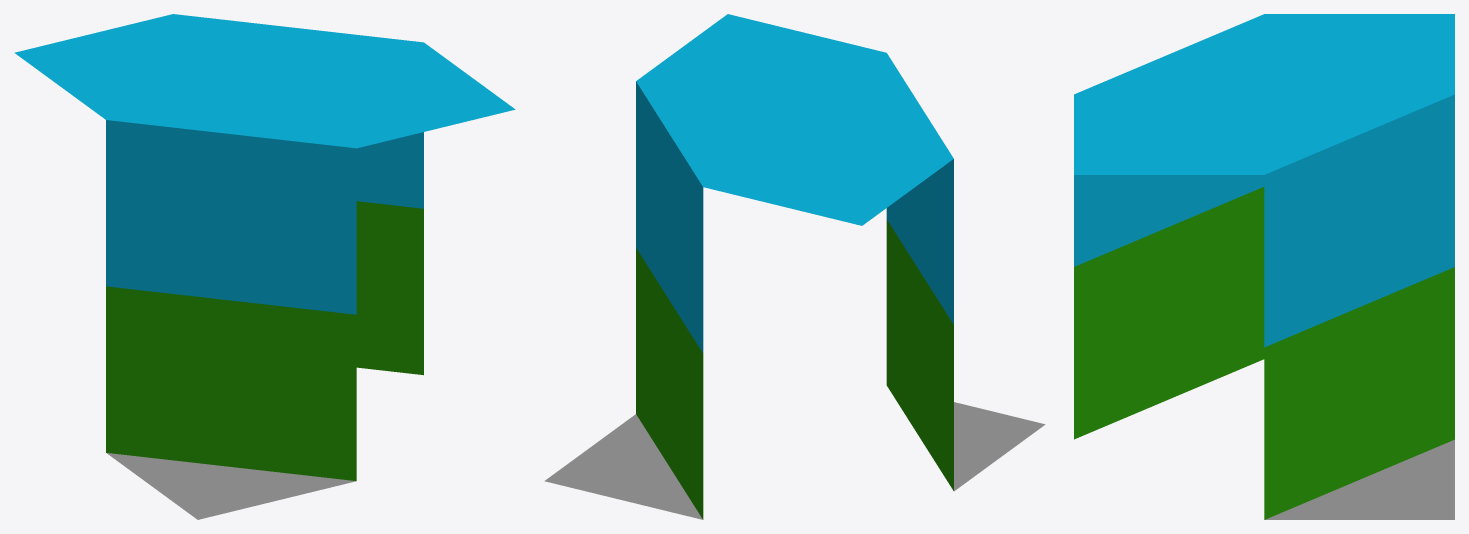
3 views of the same model, side by side, from view 1: azimuth 30°, elevation 25°; view 2: azimuth 150°, elevation 25°; view 3: azimuth 270°, elevation 25° (orthographic). The views are drawn at different scales.
Visible parts, largest first — view 1: T_aa_0_0; view 2: T_aa_0_0; view 3: T_aa_0_0.
Part boxes in pixels (x1,y1,x2,y2): T_aa_0_0: (14,14,515,519); T_aa_0_0: (544,14,1045,519); T_aa_0_0: (1074,14,1454,519).
Size of the model in its own units: 99.79 by 99.81 by 99.81.
